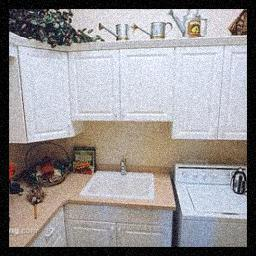Electrodomestico: (180, 172, 246, 244)
Lavaplatos: (77, 166, 159, 204)
